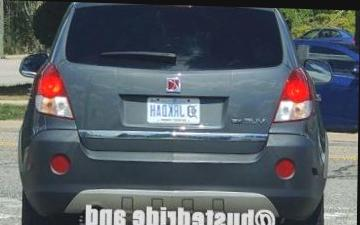License_Plate: (144, 93, 205, 129)
